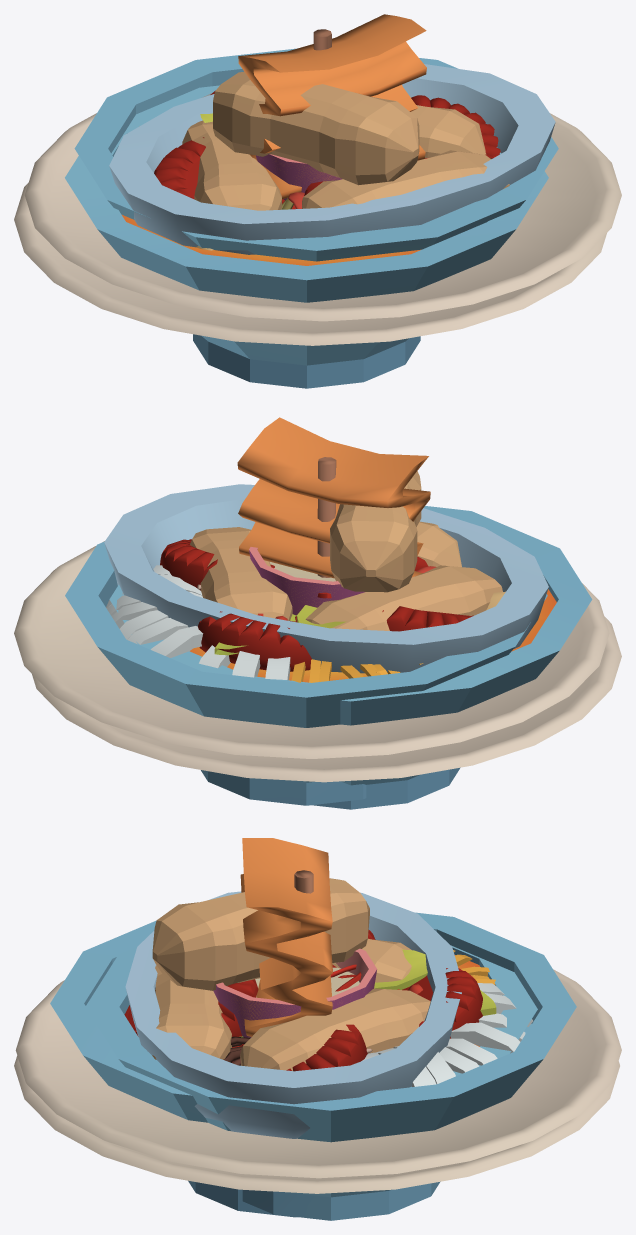
The model's file is WonderLand_food_0710.fbx.
The picture shows the model from 3 angles, top to bottom: view 1: azimuth 30°, elevation 25°; view 2: azimuth 150°, elevation 25°; view 3: azimuth 270°, elevation 25°; orthographic projection.
Visible parts, largest first — view 1: food8, food04, food01, food7, food03, food02, food05; view 2: food8, food03, food01, food7, food02, food04, food05, food06; view 3: food8, food03, food01, food7, food02, food04, food05, food06.
Boxes of the visible parts, <box> form: food8: <box>24,71,621,321</box>; food04: <box>65,85,548,388</box>; food01: <box>109,64,555,254</box>; food7: <box>14,90,606,345</box>; food03: <box>74,48,558,261</box>; food02: <box>238,14,426,199</box>; food05: <box>256,154,342,200</box>; food8: <box>14,471,609,758</box>; food03: <box>65,507,547,805</box>; food01: <box>104,484,548,673</box>; food7: <box>32,539,621,782</box>; food02: <box>237,417,430,578</box>; food04: <box>109,506,592,809</box>; food05: <box>249,550,364,615</box>; food06: <box>249,547,340,609</box>; food8: <box>15,878,621,1178</box>; food03: <box>85,912,576,1220</box>; food01: <box>125,891,461,1138</box>; food7: <box>14,930,619,1193</box>; food02: <box>240,838,332,1036</box>; food04: <box>50,920,537,1217</box>; food05: <box>213,967,376,1037</box>; food06: <box>216,948,376,1037</box>.
Size of the model in its own units: 44.55 by 26.51 by 43.7.
